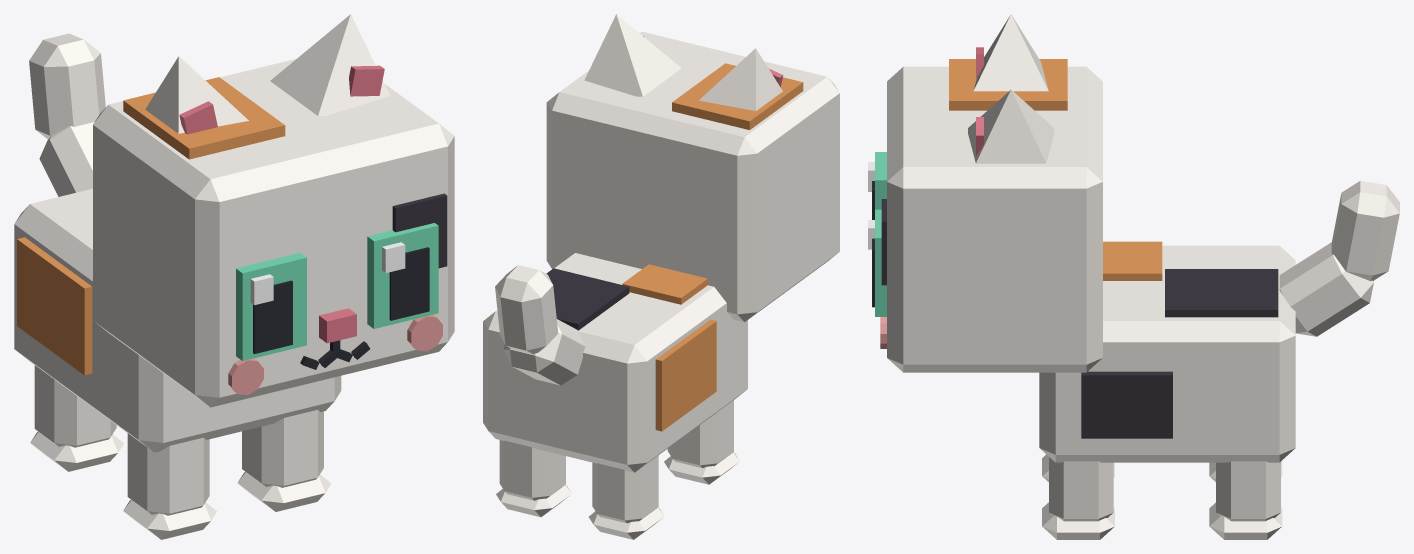
The model's file is CleanACat_Cat_Patches.fbx.
3 renders of one model, left to right at view 1: azimuth 30°, elevation 25°; view 2: azimuth 150°, elevation 25°; view 3: azimuth 270°, elevation 25°, orthographic. The views are drawn at different scales.
Parts seen in each view (by area): view 1: CleanACat_Cat_Patches_Head, CleanACat_Cat_Patches_Body, CleanACat_Cat_Patches_Tail, CleanACat_Cat_Patches_LegF2, CleanACat_Cat_Patches_LegF1, CleanACat_Cat_Patches_Eye2, CleanACat_Cat_Patches_Eye1, CleanACat_Cat_Patches_EarL, CleanACat_Cat_Patches_LegB2, CleanACat_Cat_Patches_EarR; view 2: CleanACat_Cat_Patches_Head, CleanACat_Cat_Patches_Body, CleanACat_Cat_Patches_Tail, CleanACat_Cat_Patches_LegB2, CleanACat_Cat_Patches_EarL, CleanACat_Cat_Patches_LegB1, CleanACat_Cat_Patches_LegF2, CleanACat_Cat_Patches_EarR; view 3: CleanACat_Cat_Patches_Head, CleanACat_Cat_Patches_Body, CleanACat_Cat_Patches_Tail, CleanACat_Cat_Patches_LegB1, CleanACat_Cat_Patches_LegF1, CleanACat_Cat_Patches_EarL, CleanACat_Cat_Patches_EarR, CleanACat_Cat_Patches_Eye1, CleanACat_Cat_Patches_Eye2.
Part boxes in pixels (x1,y1,x2,y2): CleanACat_Cat_Patches_Head: (93, 59, 454, 407); CleanACat_Cat_Patches_Body: (14, 188, 341, 452); CleanACat_Cat_Patches_Tail: (29, 33, 105, 196); CleanACat_Cat_Patches_LegF2: (123, 433, 216, 539); CleanACat_Cat_Patches_LegF1: (237, 409, 331, 511); CleanACat_Cat_Patches_Eye2: (236, 252, 306, 360); CleanACat_Cat_Patches_Eye1: (367, 223, 438, 328); CleanACat_Cat_Patches_EarL: (270, 14, 389, 115); CleanACat_Cat_Patches_LegB2: (30, 365, 123, 471); CleanACat_Cat_Patches_EarR: (145, 56, 248, 134); CleanACat_Cat_Patches_Head: (546, 31, 839, 322); CleanACat_Cat_Patches_Body: (483, 253, 747, 472); CleanACat_Cat_Patches_Tail: (495, 265, 585, 385); CleanACat_Cat_Patches_LegB2: (589, 455, 664, 539); CleanACat_Cat_Patches_EarL: (584, 14, 681, 96); CleanACat_Cat_Patches_LegB1: (496, 440, 571, 517); CleanACat_Cat_Patches_LegF2: (664, 400, 739, 484); CleanACat_Cat_Patches_EarR: (699, 48, 783, 110); CleanACat_Cat_Patches_Head: (880, 59, 1102, 372); CleanACat_Cat_Patches_Body: (1039, 241, 1295, 462); CleanACat_Cat_Patches_Tail: (1279, 181, 1399, 336); CleanACat_Cat_Patches_LegB1: (1209, 461, 1282, 539); CleanACat_Cat_Patches_LegF1: (1042, 457, 1114, 539); CleanACat_Cat_Patches_EarL: (968, 90, 1054, 163); CleanACat_Cat_Patches_EarR: (973, 14, 1048, 91); CleanACat_Cat_Patches_Eye1: (868, 209, 886, 316); CleanACat_Cat_Patches_Eye2: (868, 152, 886, 219).
Size of the model in its own units: 1 by 1.86 by 1.97.
1 material, 1 textured.
